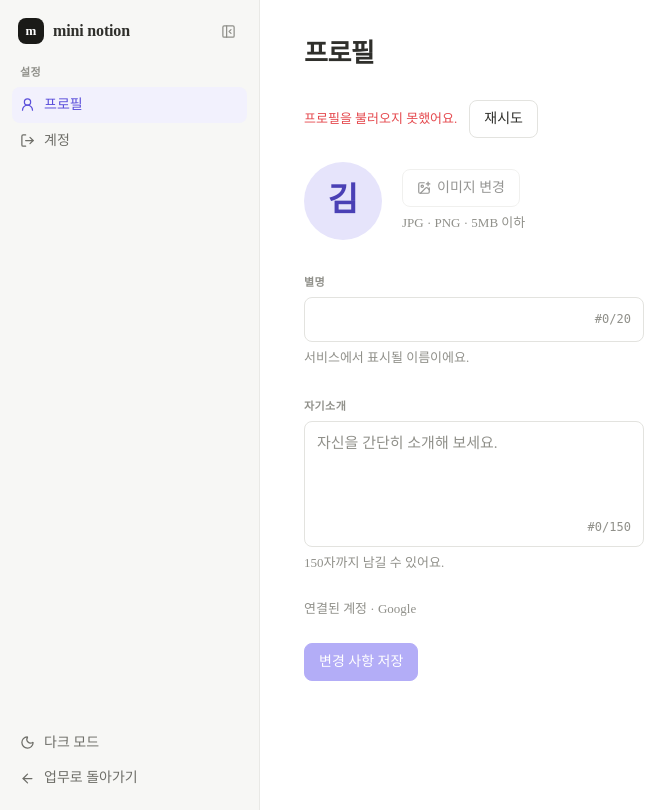
Scenario: 길이 제한과 오류 상황 (US3) › 재시도가 성공하면 폼이 DB 값으로 채워지고 저장이 다시 가능해진다 (FR-021)
Click the button "재시도" at (504, 119), box [469,100,538,138]
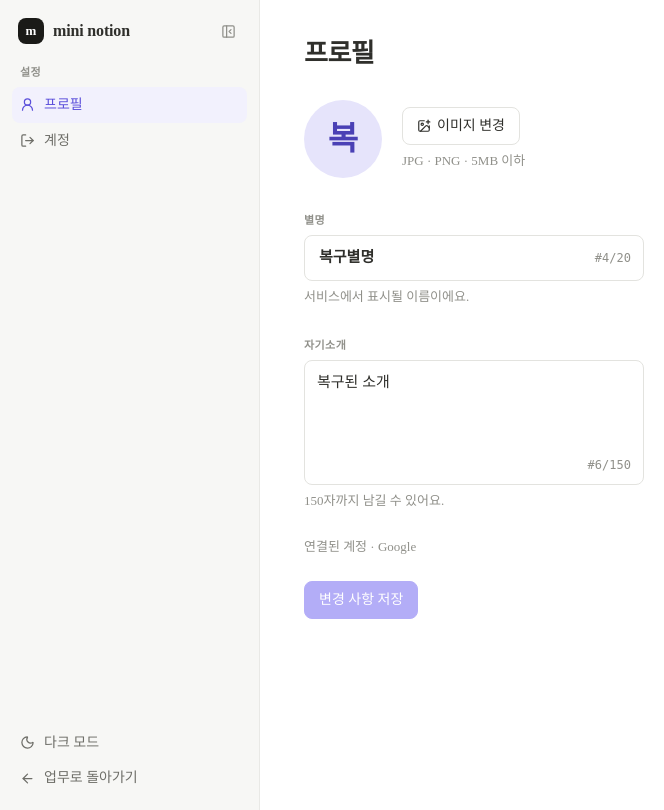
Result: the field named "별명" holds "복구별명" at [317,245,585,271]
Result: the text box named "자기소개" holds "복구된 소개"
Result: the text box named "자기소개" is enabled
Type " 더" into the text box named "자기소개" at (474, 408), box [317,370,631,446]
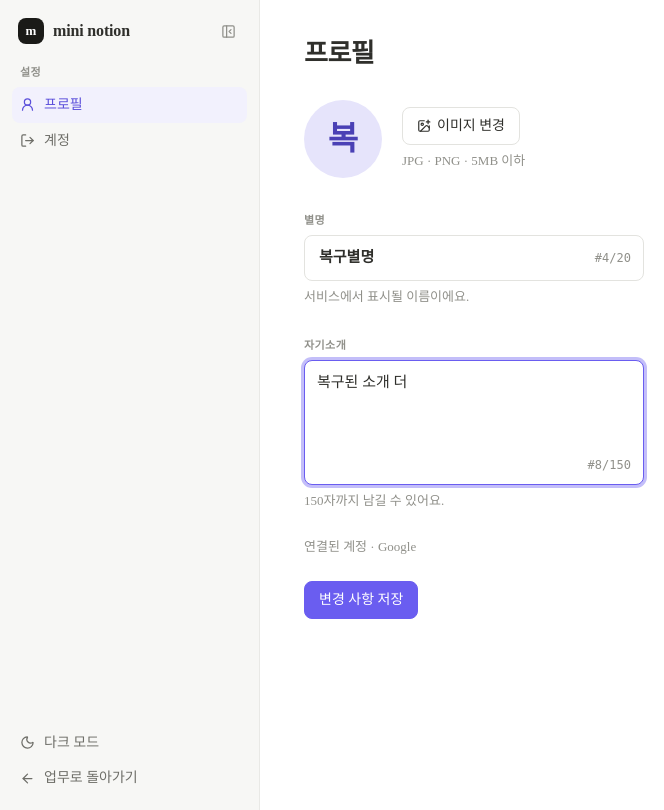
Result: the button "변경 사항 저장" is enabled at [304,581,418,619]
